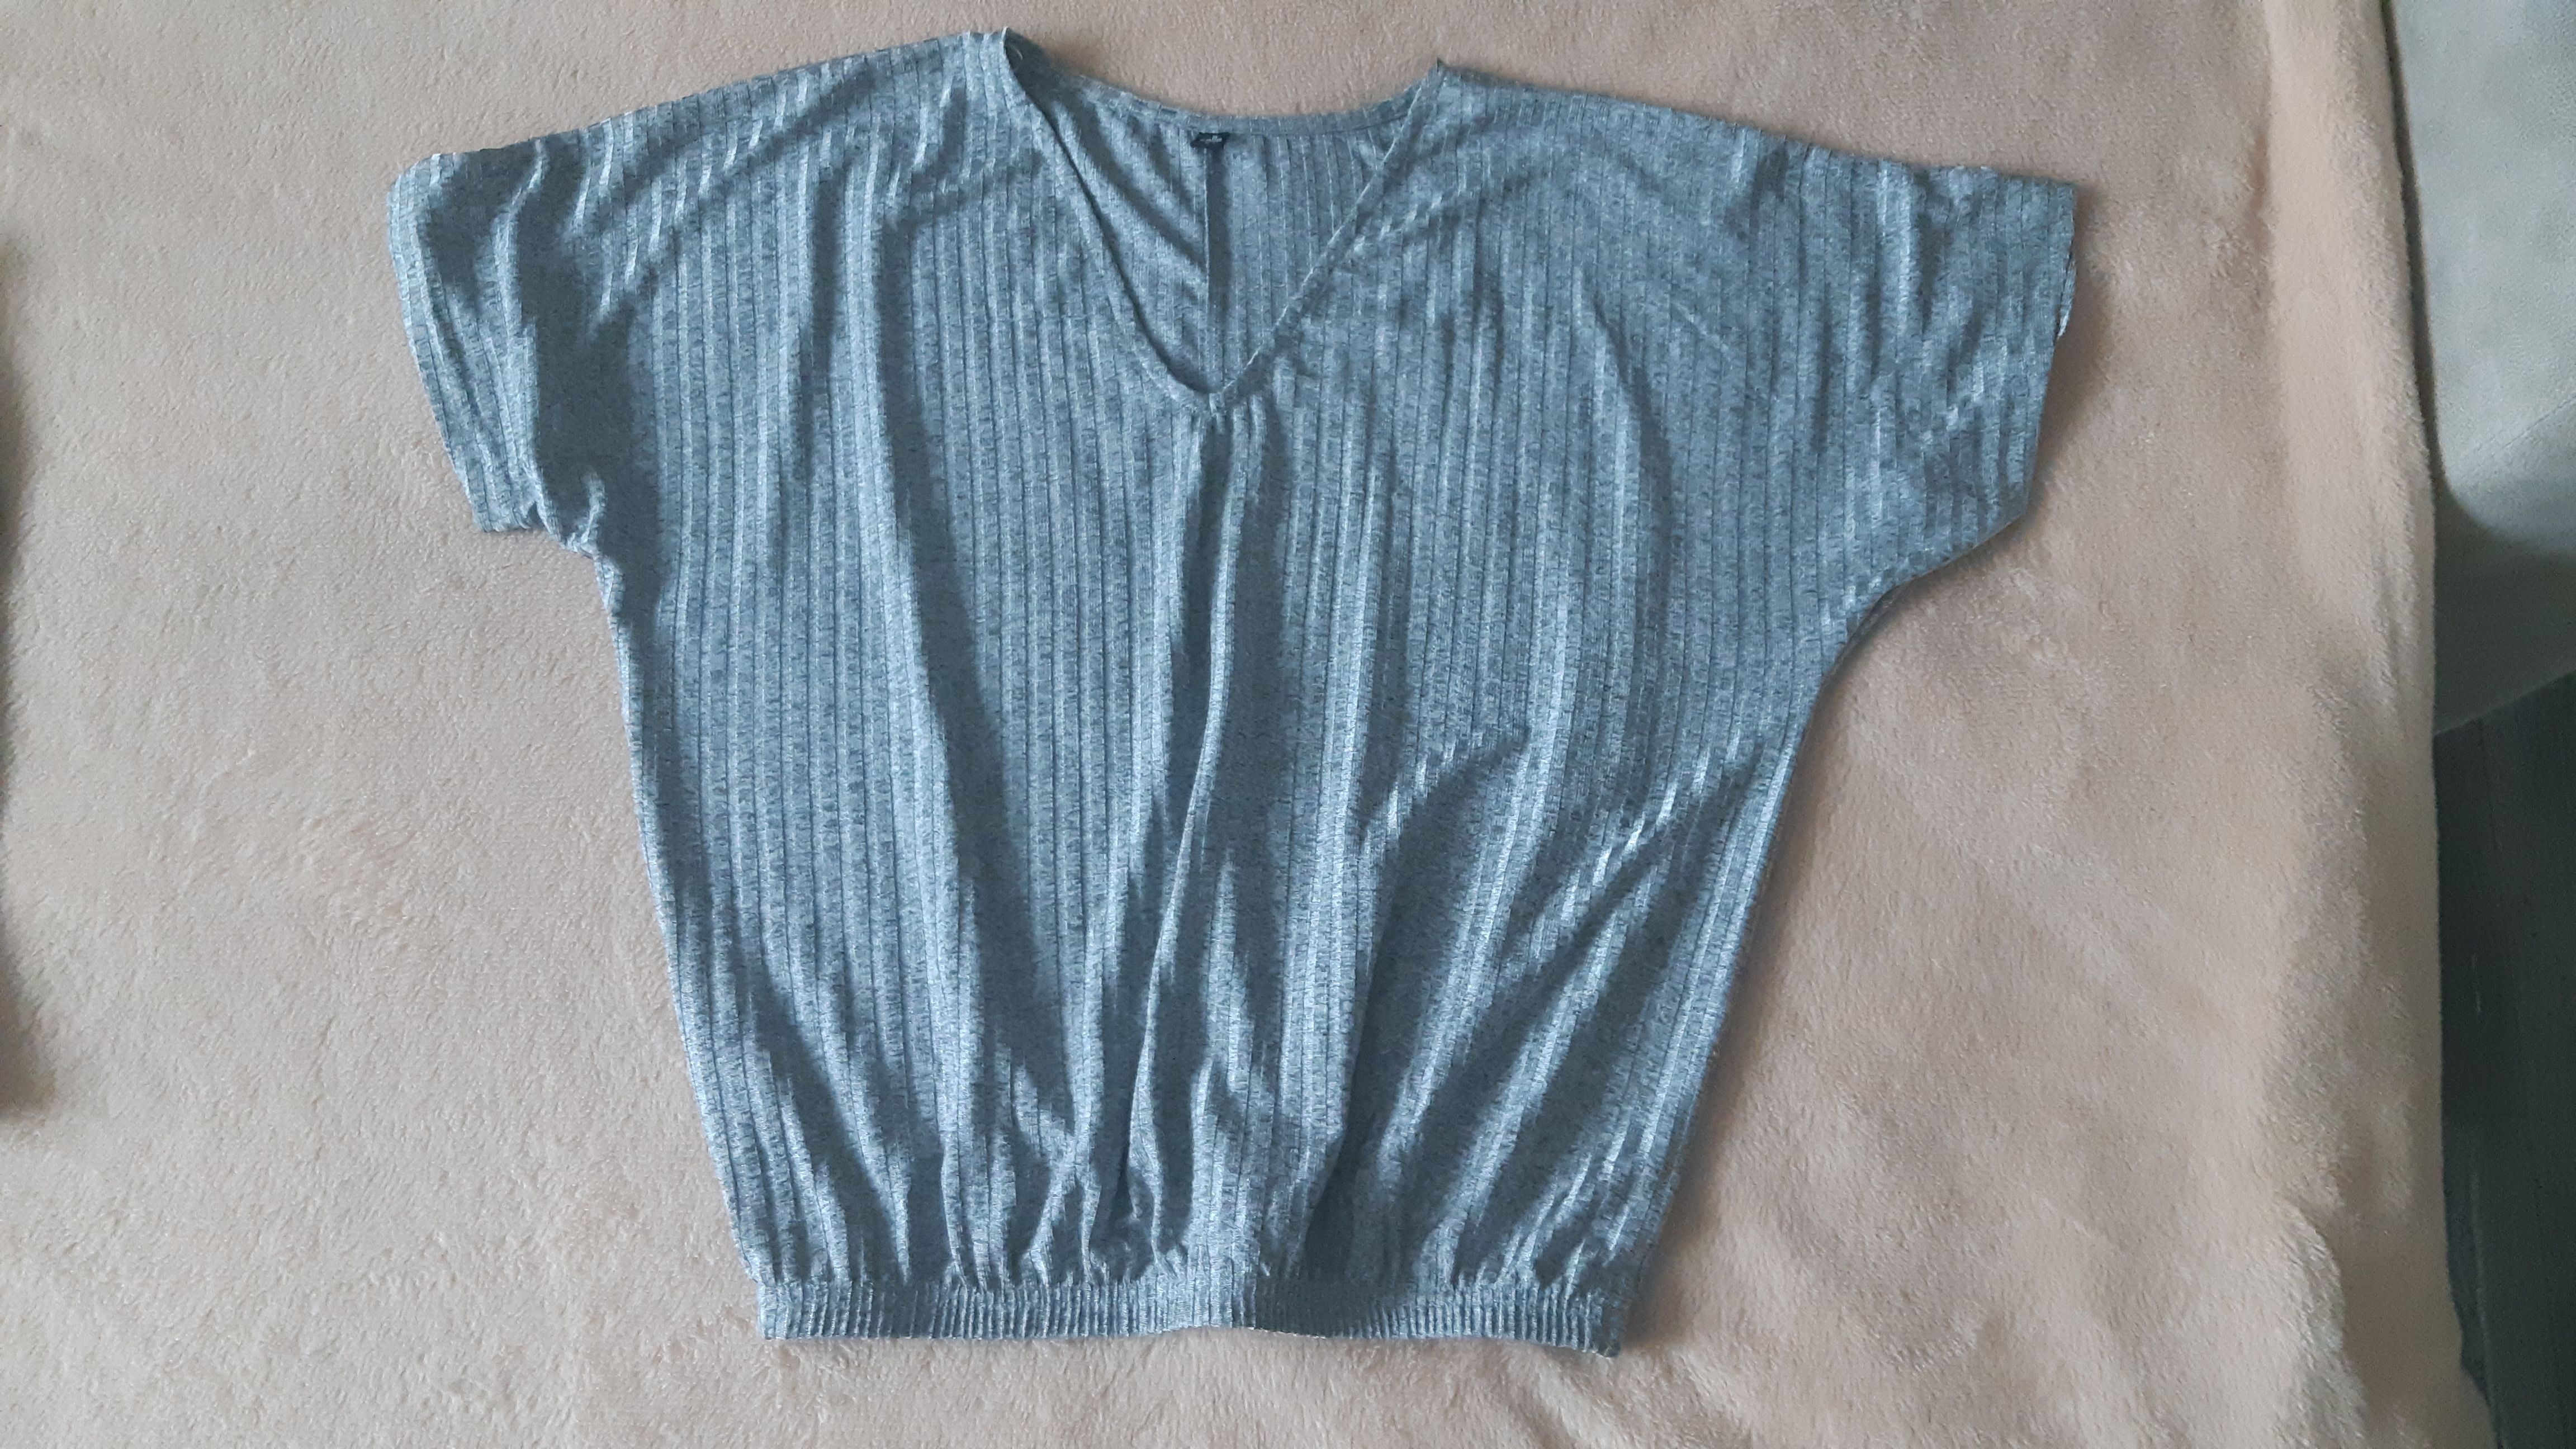clothes: (375, 12, 2095, 1415)
